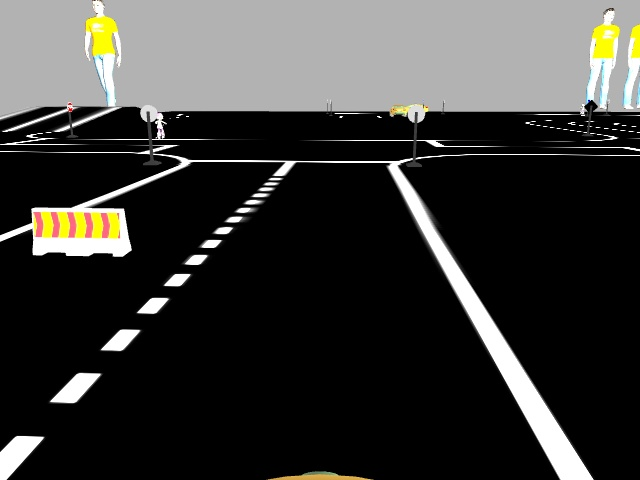ClosedRoadStand: (30, 208, 128, 253)
